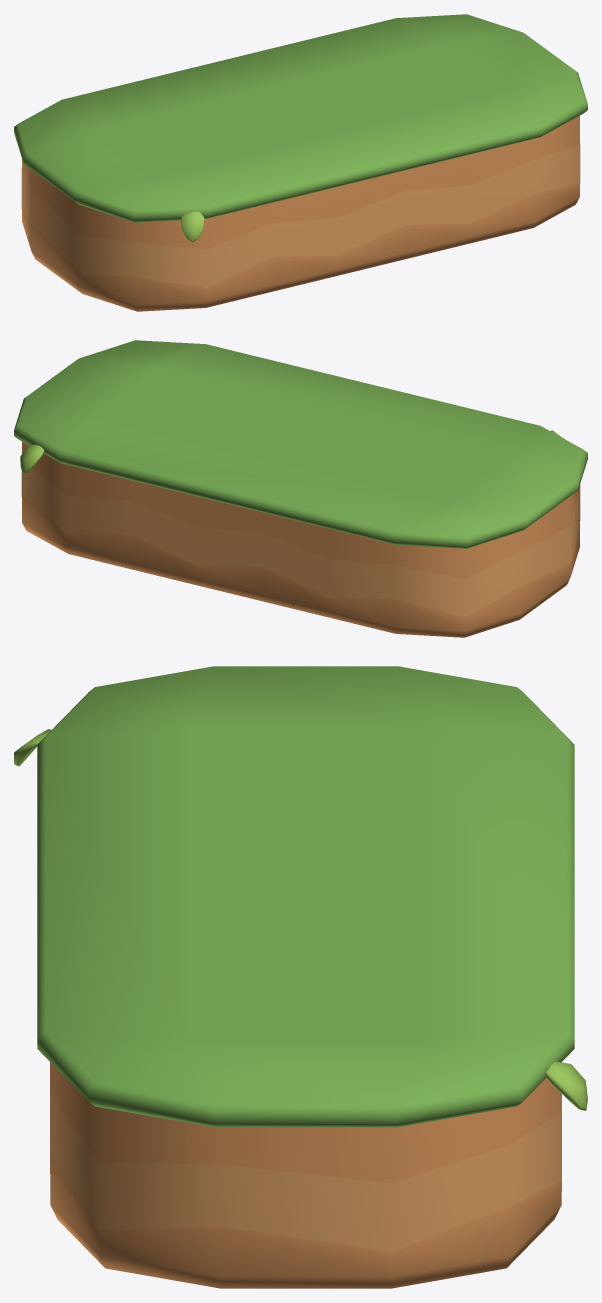
Rendered from platform 02_toon_material_0.001.glb.
3 views of the same model, one above another, from view 1: azimuth 30°, elevation 25°; view 2: azimuth 150°, elevation 25°; view 3: azimuth 270°, elevation 25° (orthographic). The views are drawn at different scales.
Parts seen in each view (by area): view 1: platform 02_toon_material_0.001; view 2: platform 02_toon_material_0.001; view 3: platform 02_toon_material_0.001.
Part boxes in pixels (box(x1,y1,x2,y2)): platform 02_toon_material_0.001: box(14, 14, 587, 311); platform 02_toon_material_0.001: box(14, 340, 587, 637); platform 02_toon_material_0.001: box(14, 666, 587, 1288).
Bounding box in the file's own units: 4.1 × 0.8496 × 2.24.
1 material, 1 textured.
